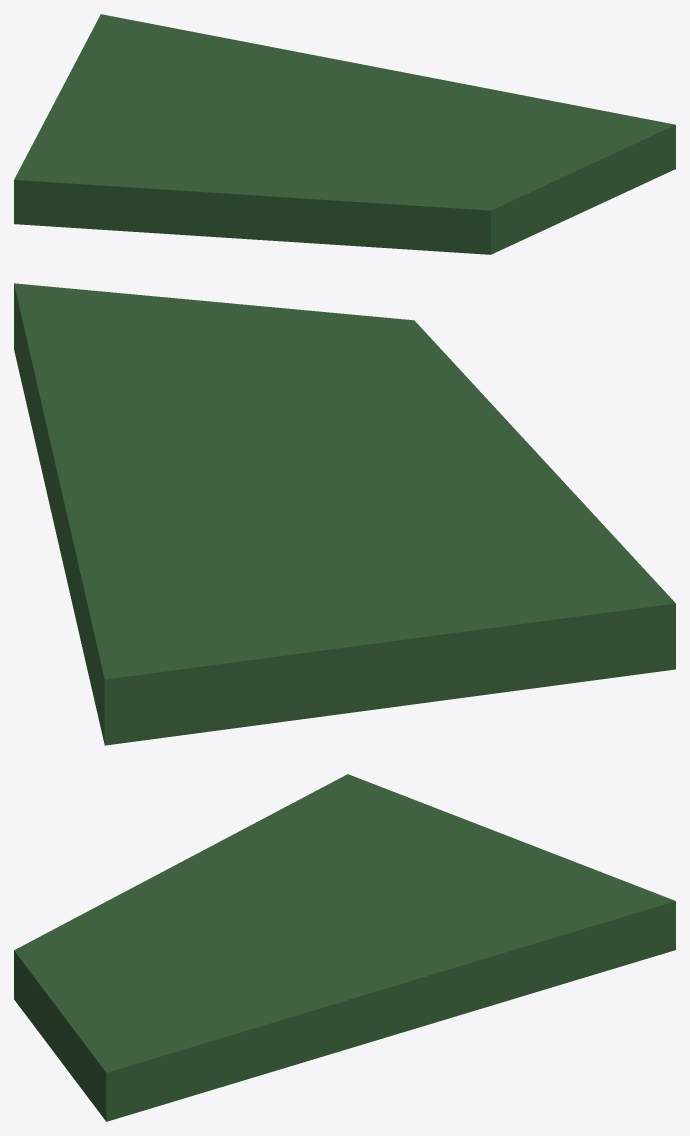
File: x_proval_00_174_1_rmstrd.fbx
3 renders of one model, top to bottom at view 1: azimuth 30°, elevation 25°; view 2: azimuth 150°, elevation 25°; view 3: azimuth 270°, elevation 25°, orthographic. The views are drawn at different scales.
Parts seen in each view (by area): view 1: x_proval_00_174_1_rmstrd1; view 2: x_proval_00_174_1_rmstrd1; view 3: x_proval_00_174_1_rmstrd1.
Boxes of the visible parts, box(x1,y1,x2,y2) form: x_proval_00_174_1_rmstrd1: box(14, 14, 675, 254); x_proval_00_174_1_rmstrd1: box(14, 283, 675, 745); x_proval_00_174_1_rmstrd1: box(14, 774, 675, 1121).
Bounding box in the file's own units: 2.62 × 0.2 × 2.45.
